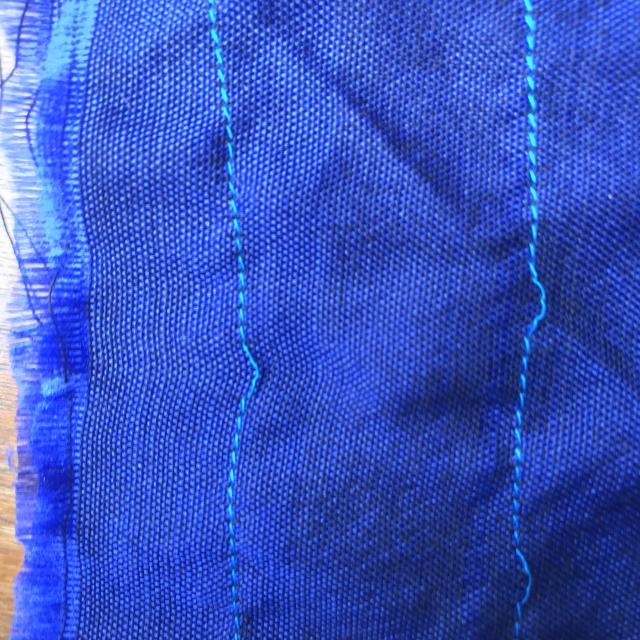skip: (507, 232, 599, 342), (199, 303, 279, 411), (485, 532, 560, 635)
